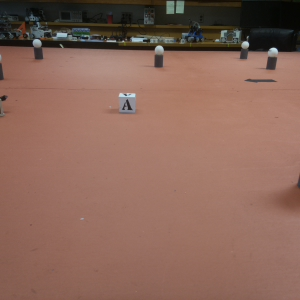blockA: (111, 85, 140, 115)
obstacle: (154, 42, 169, 68), (30, 35, 46, 59), (265, 47, 280, 70), (238, 37, 253, 59)
start: (238, 73, 278, 86)
